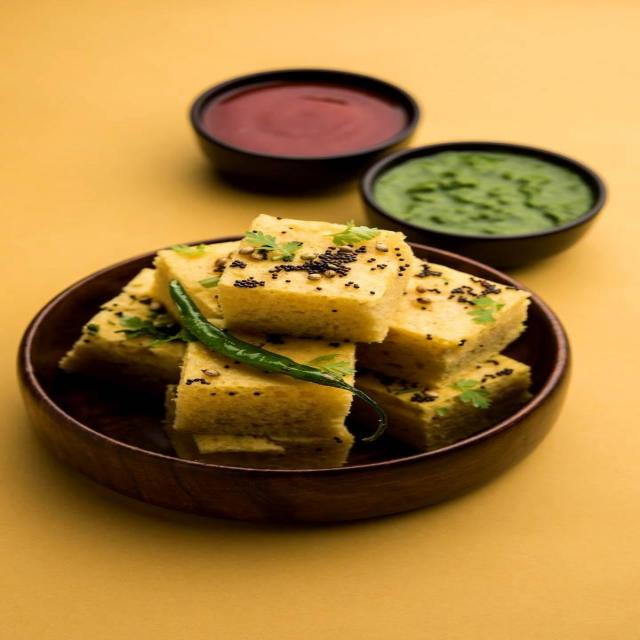dhokla: (127, 234, 501, 462)
